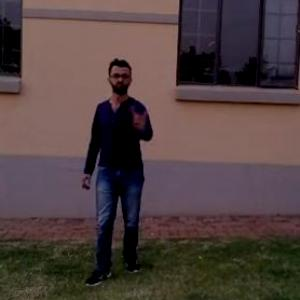takeoff-hand: (130, 101, 152, 134)
